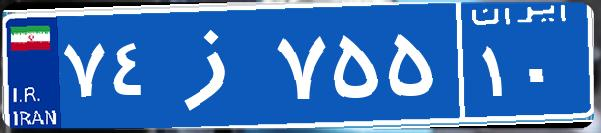0: (525, 38, 570, 115)
1: (475, 38, 525, 113)
4: (110, 28, 158, 105)
5: (385, 28, 445, 110), (330, 28, 385, 110)
7: (273, 28, 330, 110), (57, 26, 110, 107)
ز: (158, 15, 273, 115)
